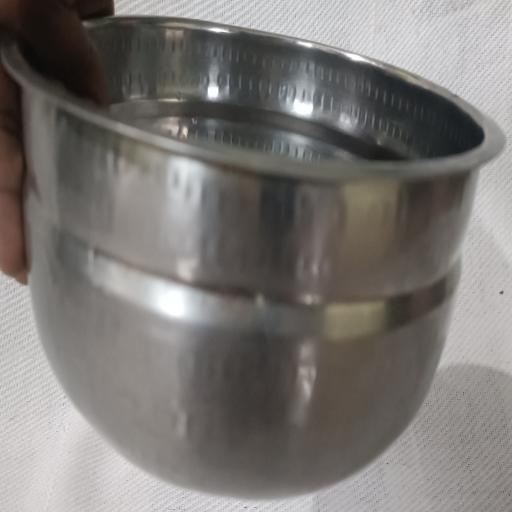vessel: (3, 18, 504, 497)
